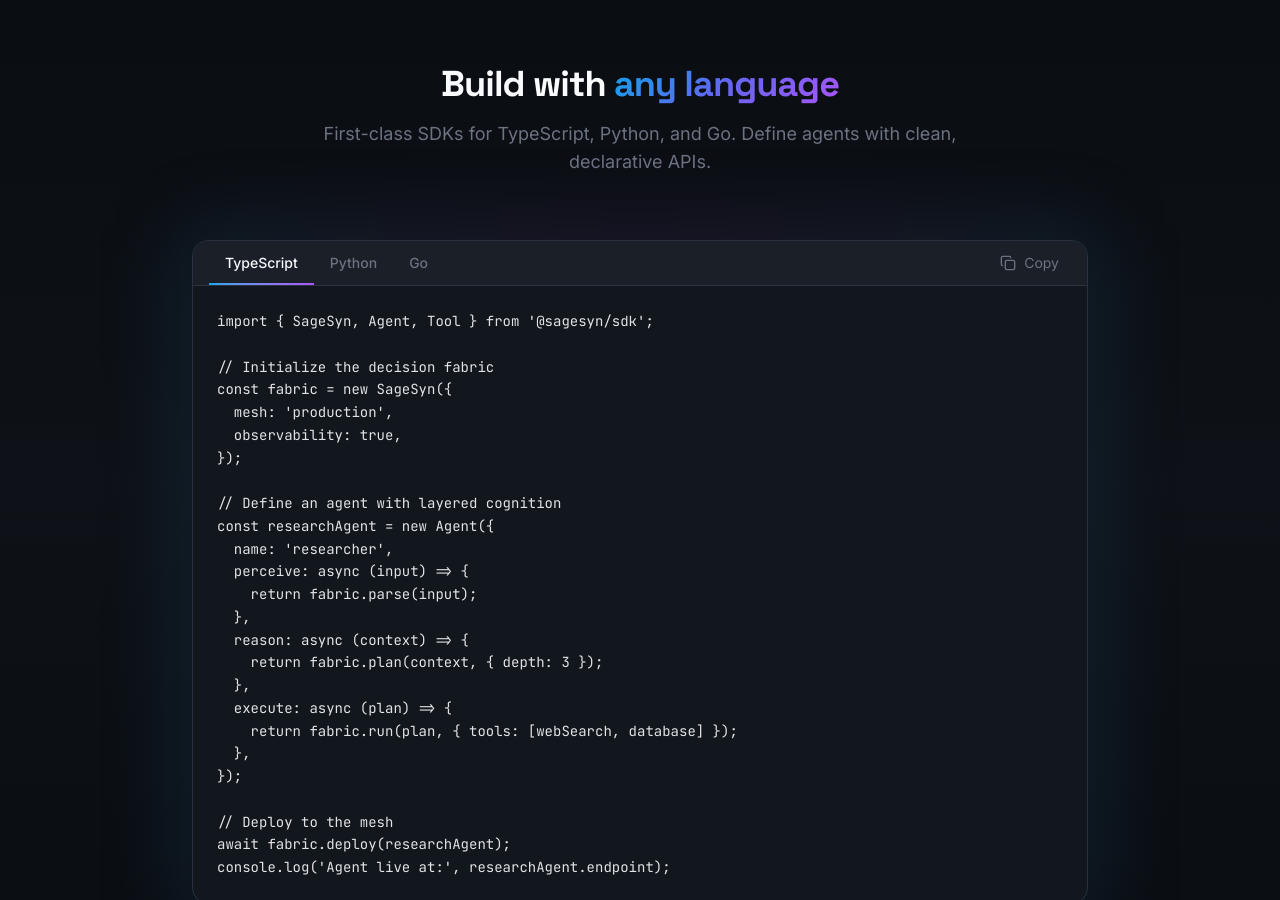
CodeShowcase component › shows Copied! message after copying
Click the button "Copy" at (1030, 263), box [988,247,1071,279]
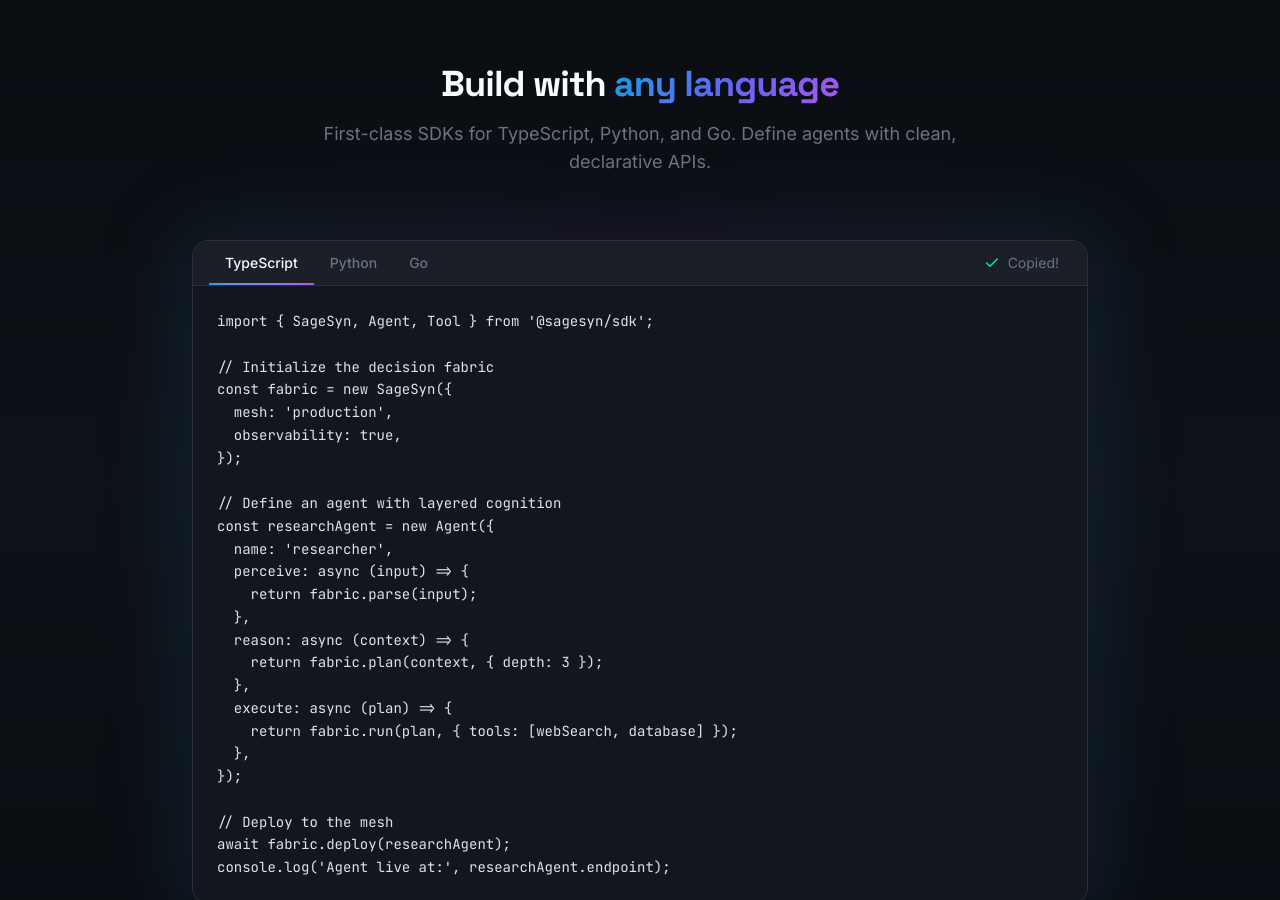
expect the button "Copied!" is shown: met, box [972,247,1071,279]
